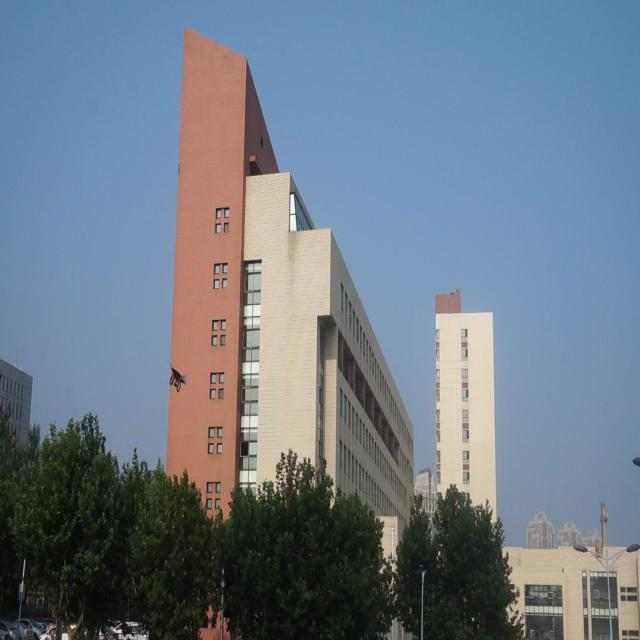drone: (168, 363, 188, 396)
